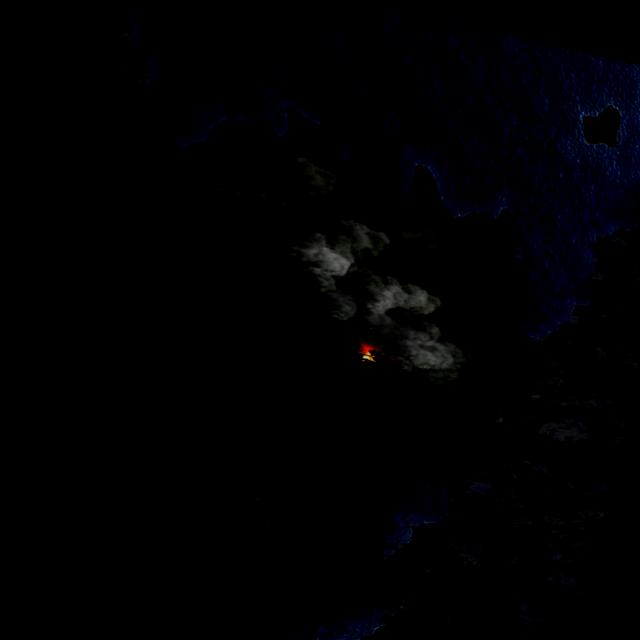fire: (350, 342, 377, 363)
smoke: (220, 145, 514, 388)
